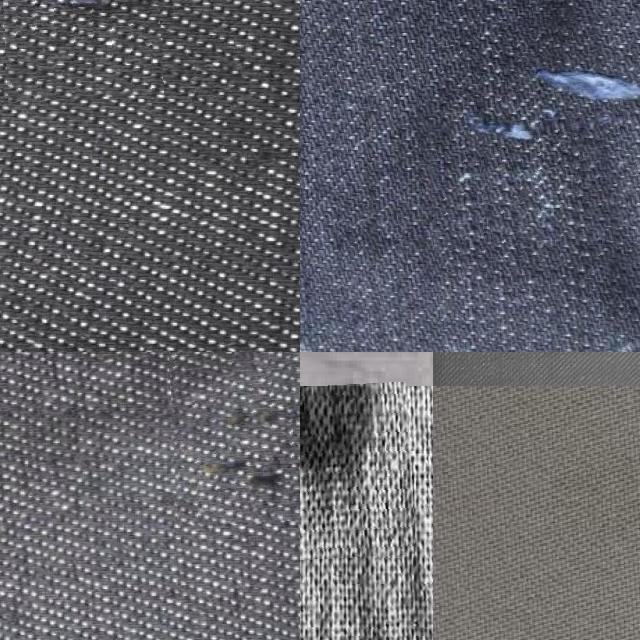Thread_other: (300, 383, 413, 560), (589, 406, 640, 554)
stains: (426, 14, 640, 268), (168, 352, 300, 523), (3, 0, 162, 98)
